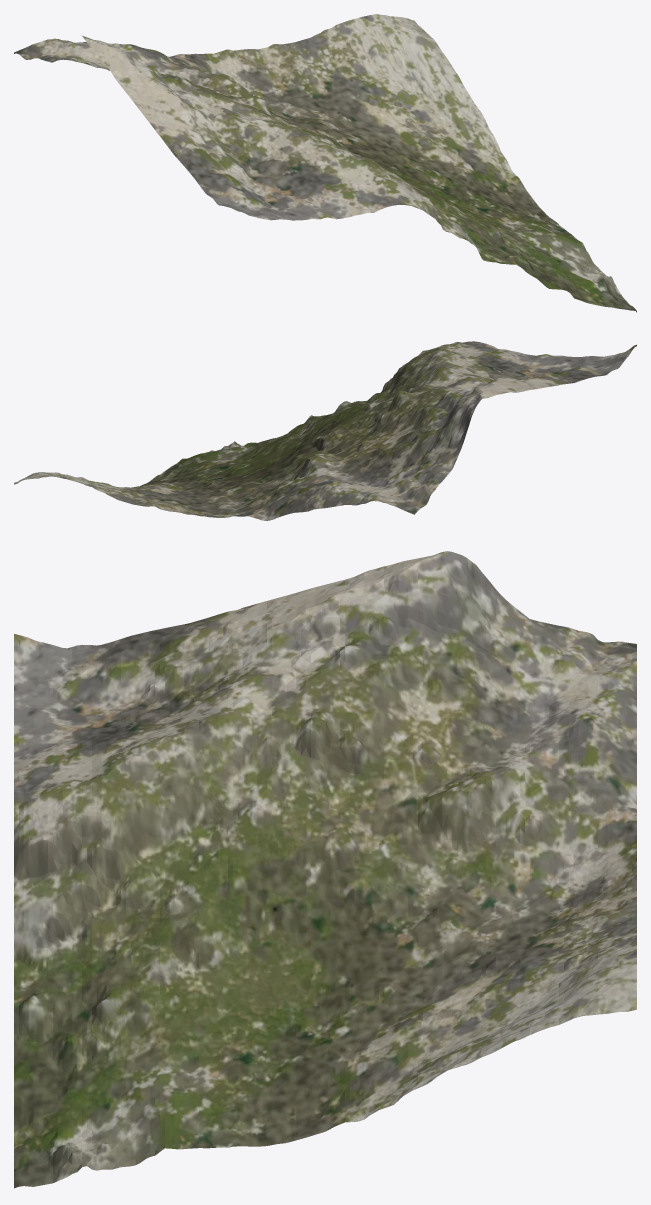
The picture shows the model from 3 angles, top to bottom: view 1: azimuth 30°, elevation 25°; view 2: azimuth 150°, elevation 25°; view 3: azimuth 270°, elevation 25°; orthographic projection. The views are drawn at different scales.
Size of the model in its own units: 250 by 156 by 241.
Materials: 1 (1 with a texture image).
